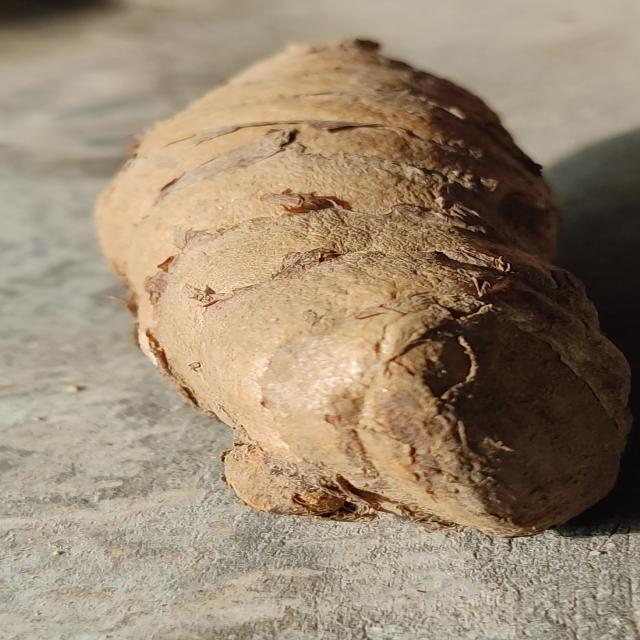ginger: (135, 53, 640, 514)
